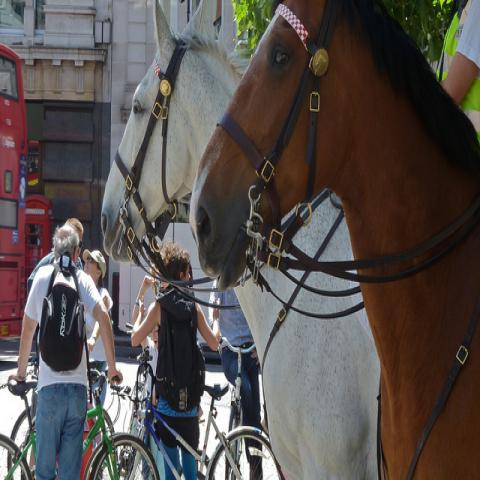bus: (0, 44, 52, 345)
